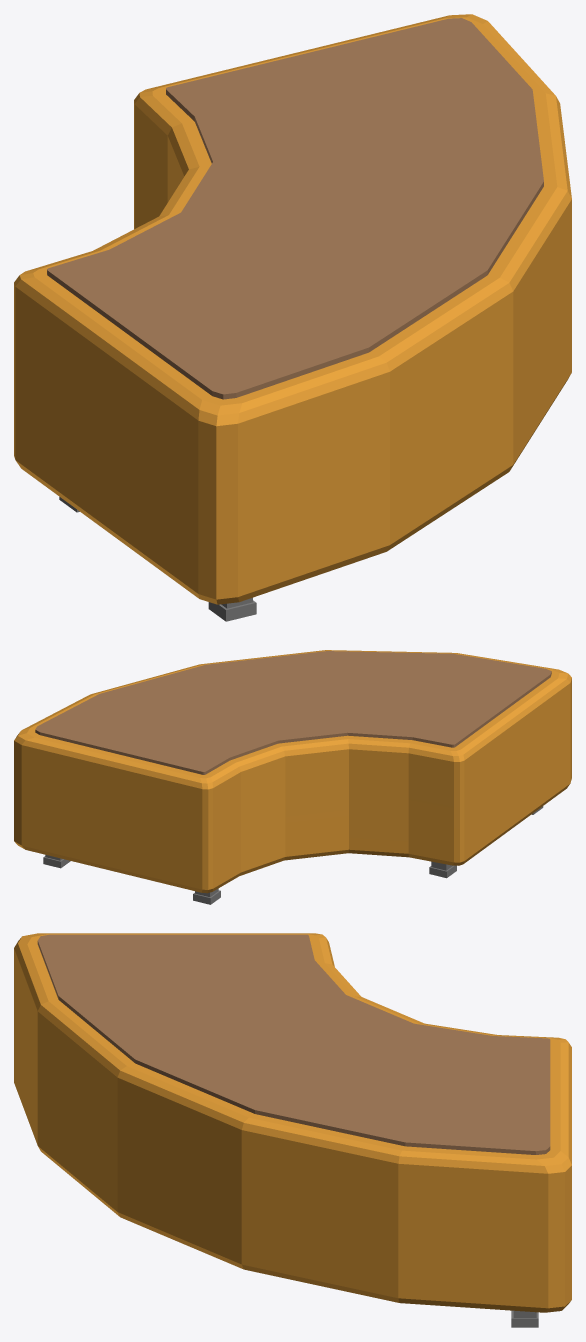
The model's file is Int_Pouf01_3.fbx.
The picture shows the model from 3 angles, top to bottom: view 1: azimuth 30°, elevation 25°; view 2: azimuth 150°, elevation 25°; view 3: azimuth 270°, elevation 25°; orthographic projection. The views are drawn at different scales.
Parts seen in each view (by area): view 1: Int_Pouf01_3; view 2: Int_Pouf01_3; view 3: Int_Pouf01_3.
Part boxes in pixels (x1,y1,x2,y2): Int_Pouf01_3: [14, 14, 571, 621]; Int_Pouf01_3: [14, 650, 571, 904]; Int_Pouf01_3: [14, 933, 571, 1327].
Size of what is drawn, in the model's own units: 169 by 169 by 60.47.
